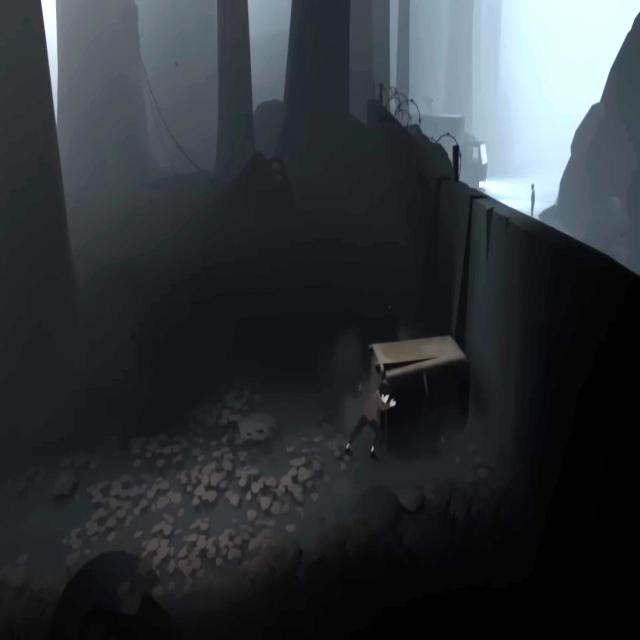boy: (347, 364, 396, 456)
human: (531, 185, 535, 219)
